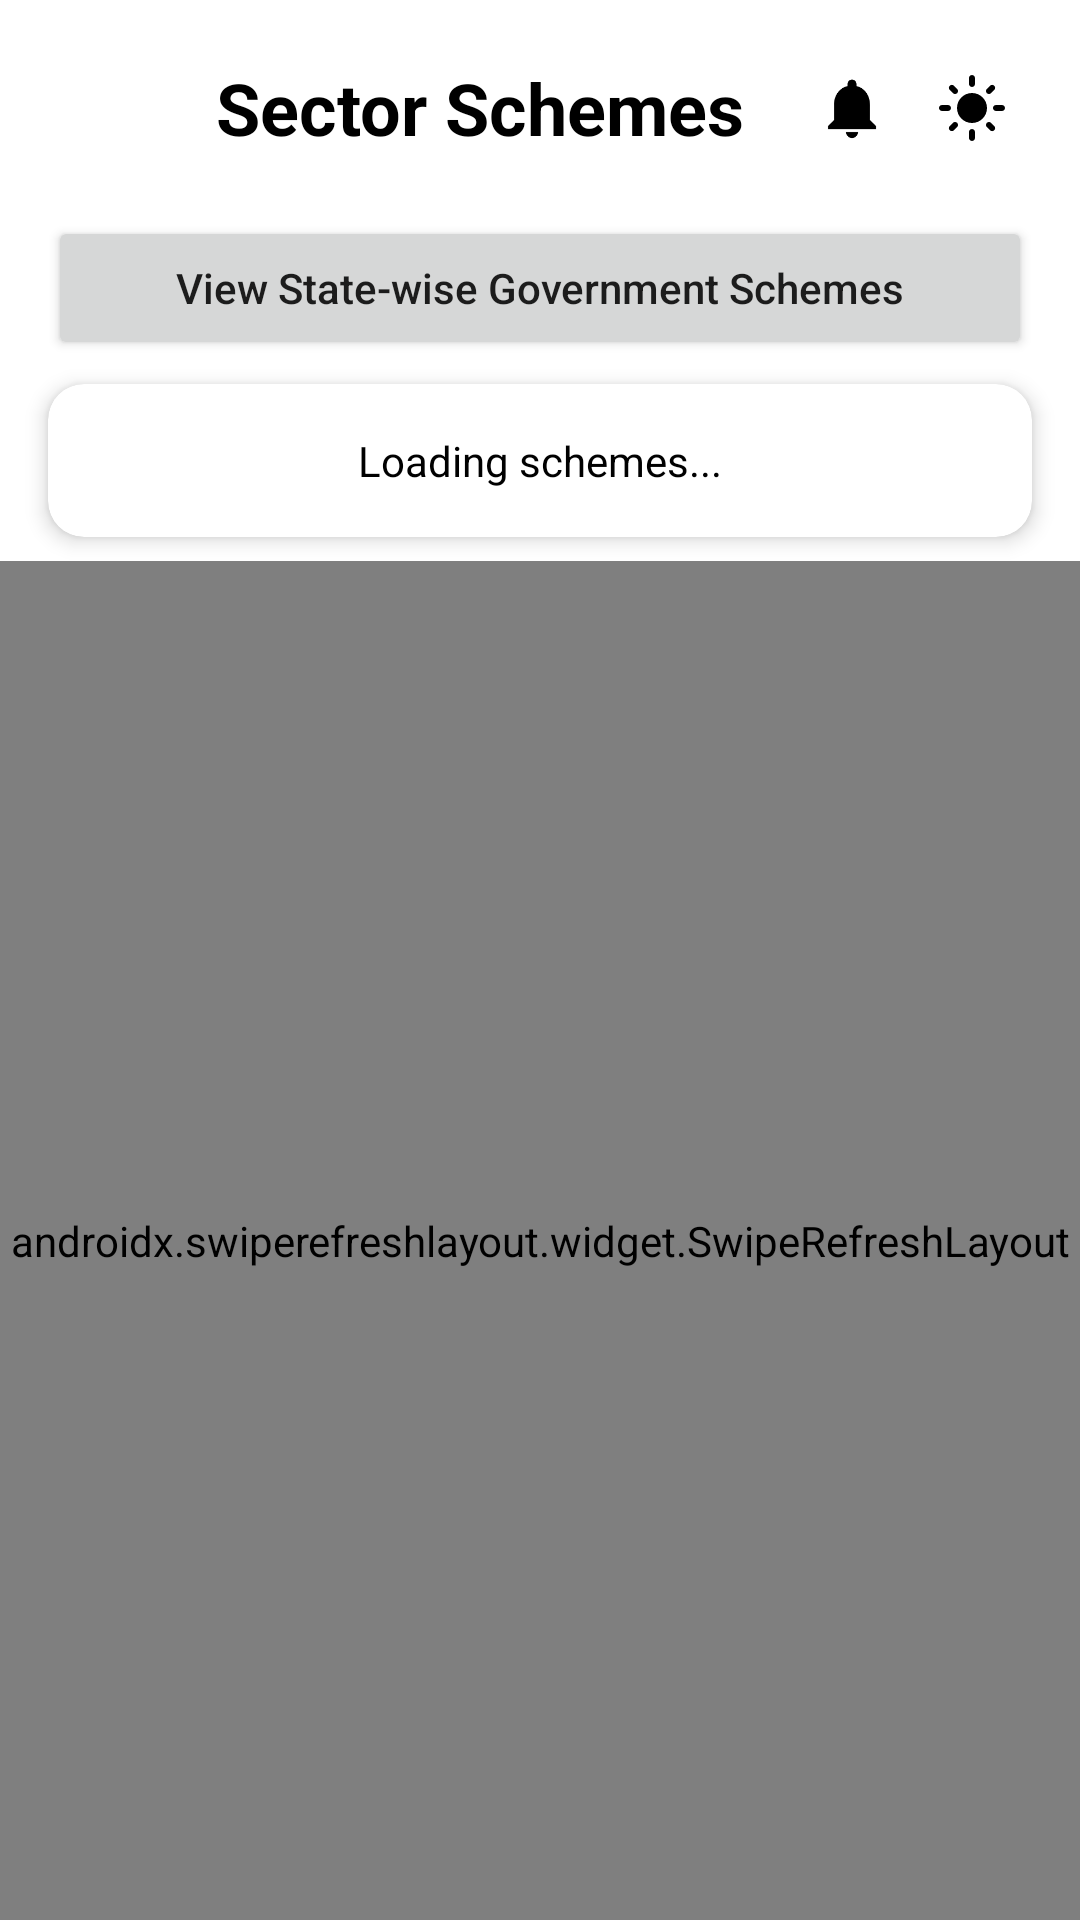

Screen size 1080w x 1920h. Icon name, then its center in pixels as [x,y]:
notification theme: [852,108]
theme toggle: [972,108]
